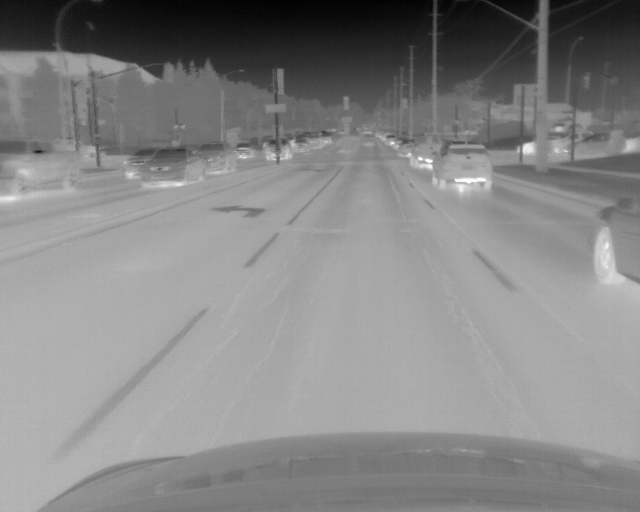car: (1, 135, 82, 198), (588, 195, 640, 286), (430, 141, 493, 190), (139, 148, 205, 184), (194, 141, 236, 174), (570, 132, 626, 152), (409, 135, 444, 166), (123, 147, 153, 176), (517, 135, 560, 154), (265, 139, 292, 161), (559, 128, 589, 147), (235, 142, 256, 161), (294, 137, 310, 153), (397, 139, 413, 154), (382, 135, 395, 145)
